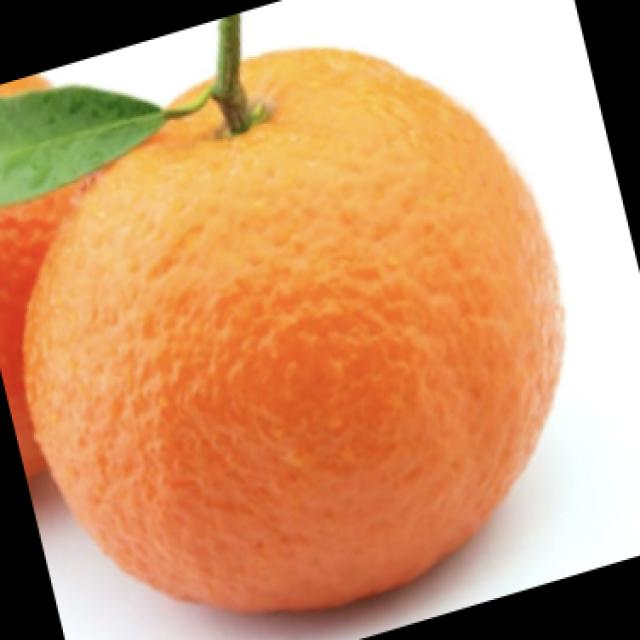fresh: (1, 0, 579, 616)
